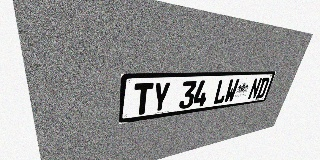3: (178, 81, 197, 109)
4: (192, 80, 210, 107)
D: (255, 77, 270, 99)
L: (212, 79, 230, 105)
N: (247, 78, 262, 100)
T: (133, 83, 154, 116)
W: (223, 79, 240, 103)
Y: (151, 82, 171, 113)
